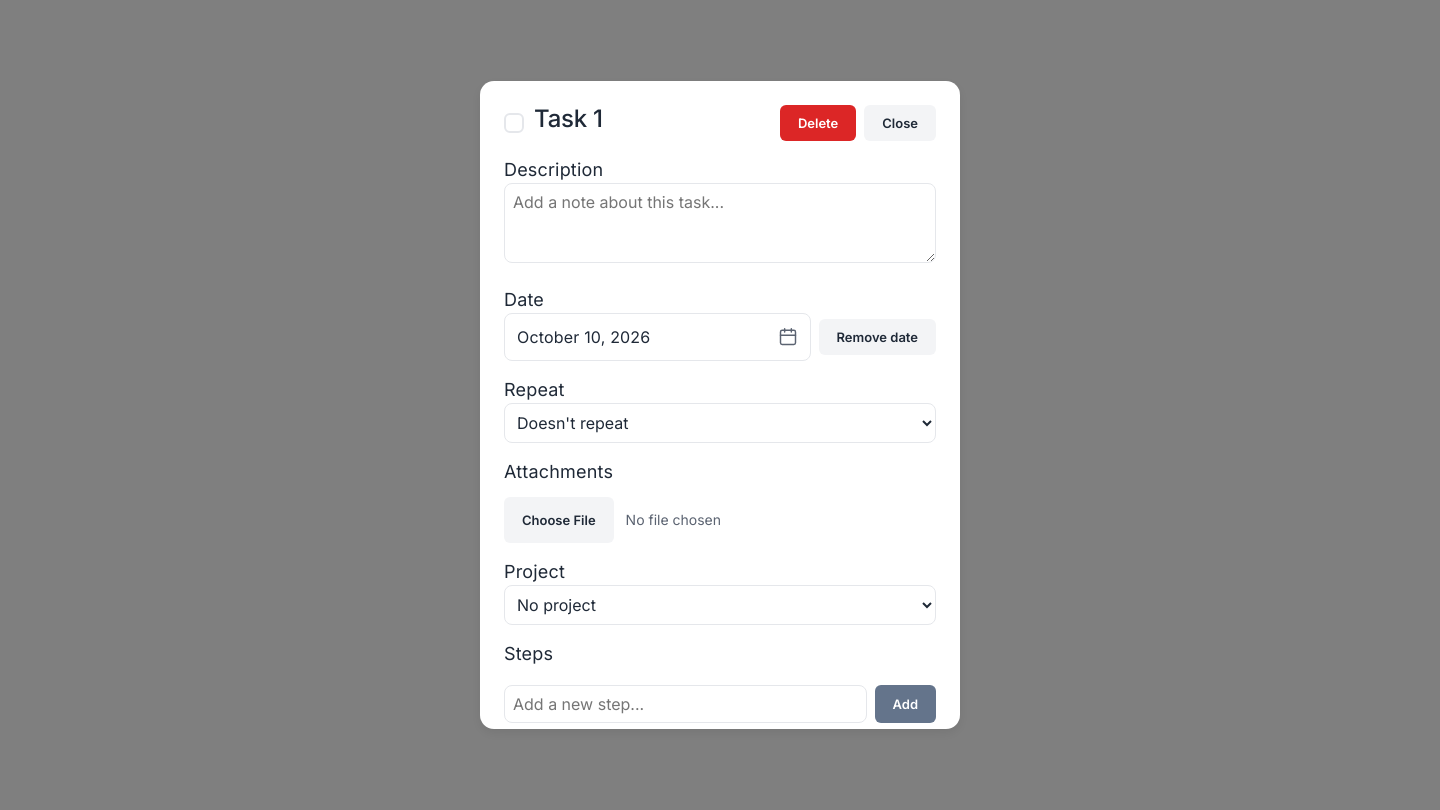
Test: TaskDetailModal dialog › cancels the title edit on Escape without closing
Double-click the heading "Task 1": point(568, 119) [534,105,603,133]
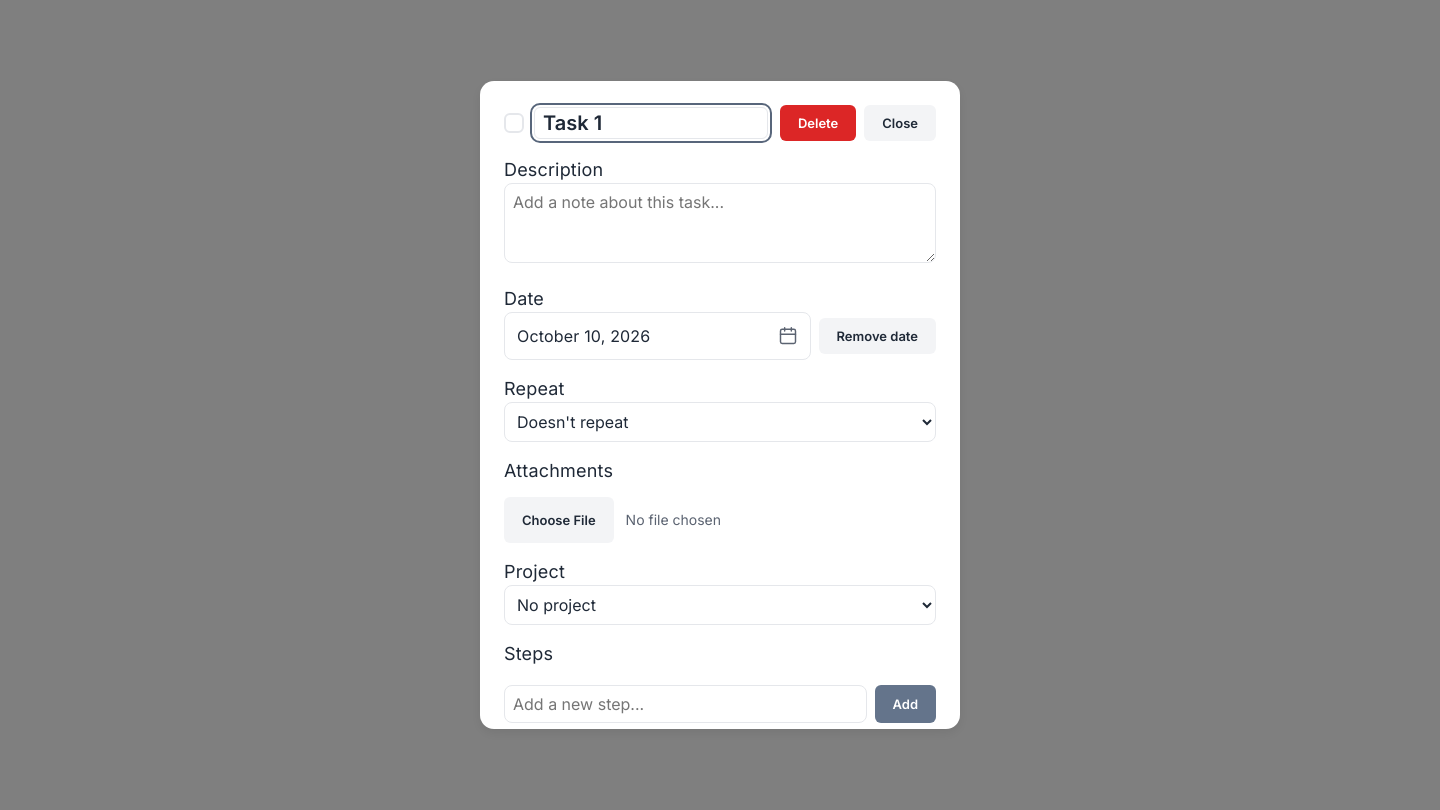
Press Escape in the field showing "Task 1", box [534,107,768,139]
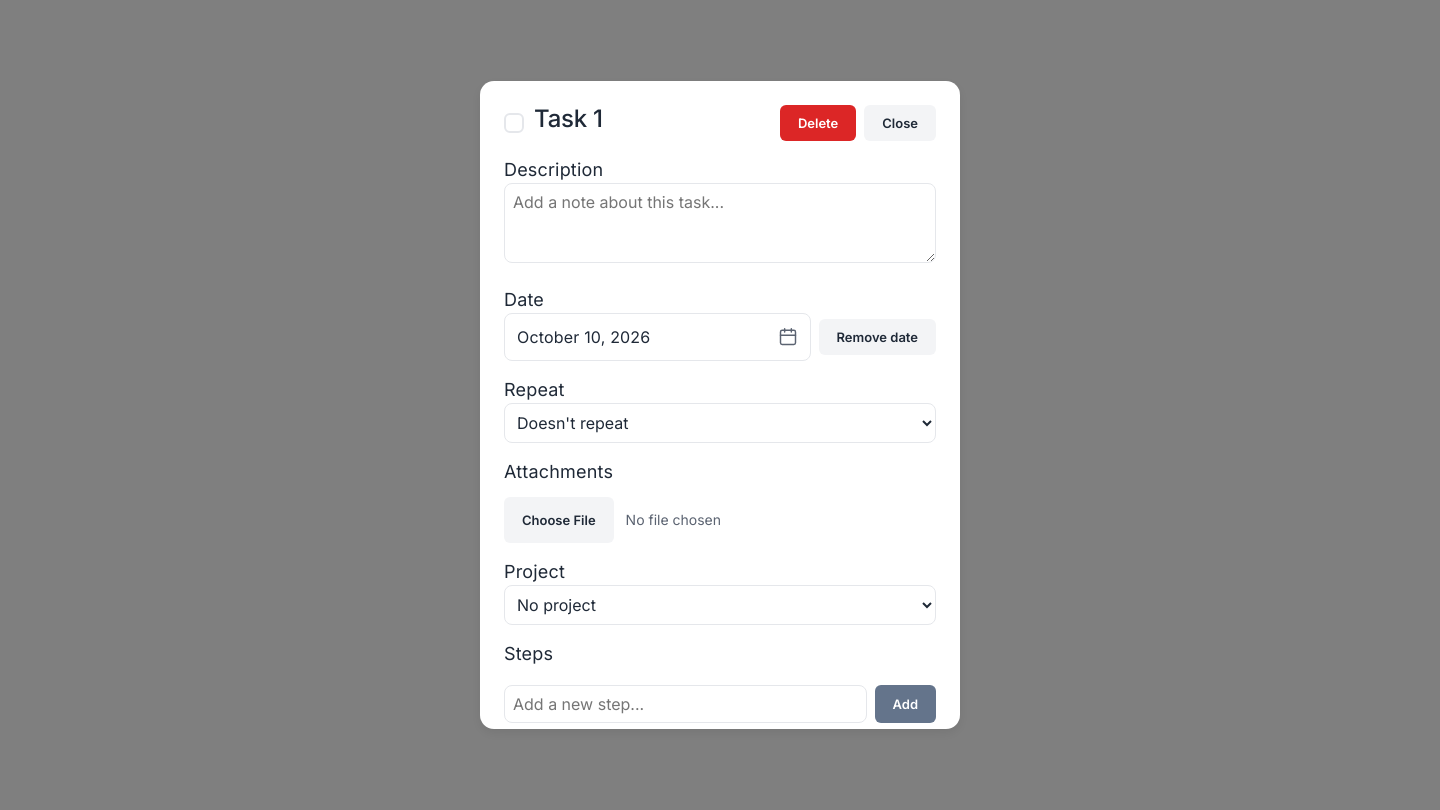
Expected: the heading "Task 1" is shown, [534,105,603,133]
